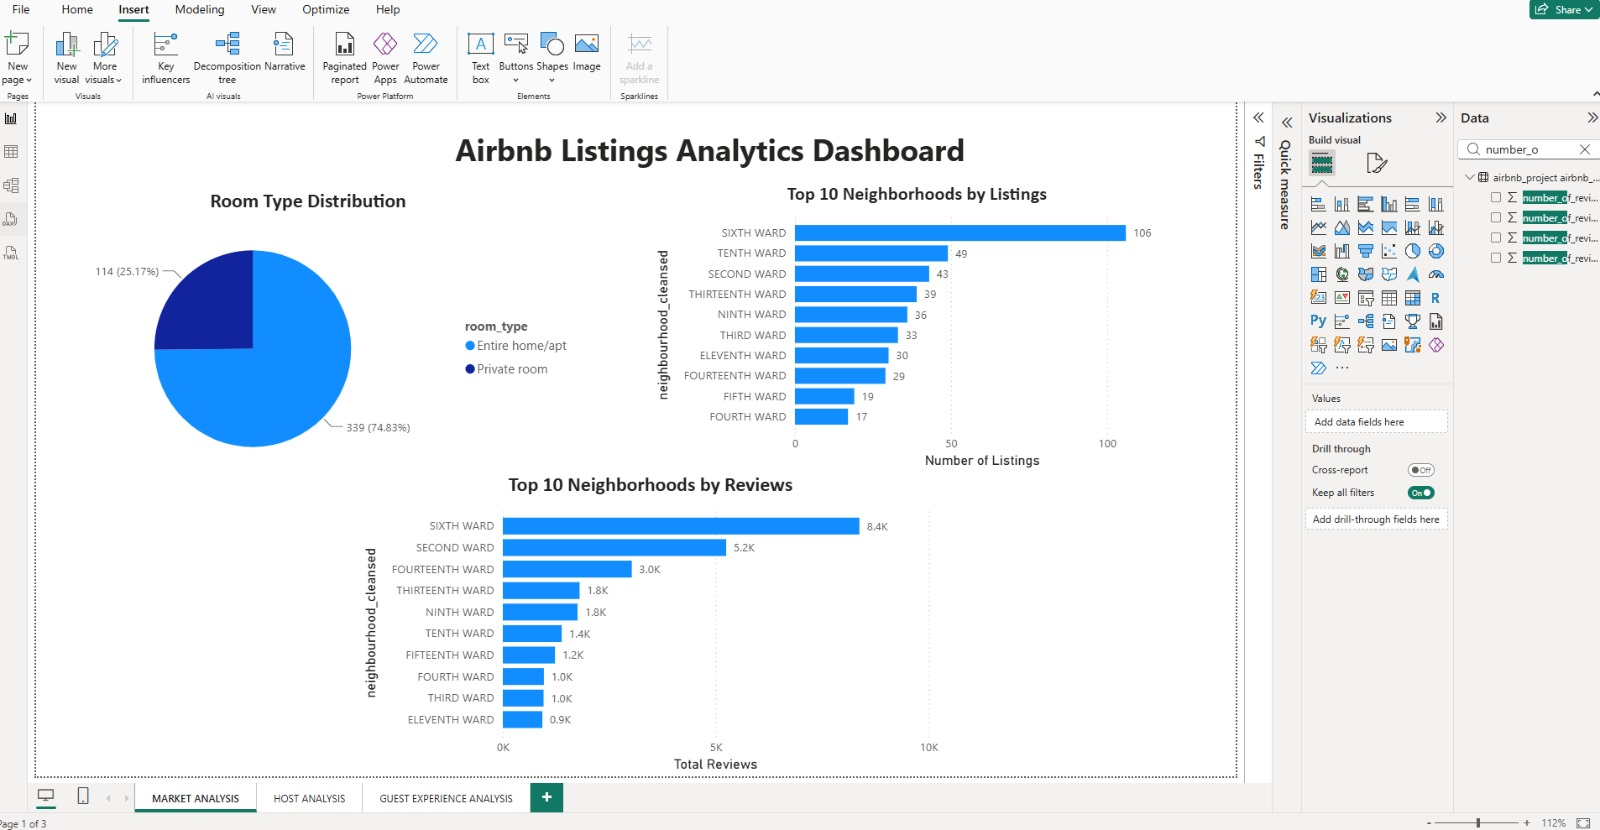

The page's visual inventory and layout, read from the dashboard file:
{"tool":"powerbi","page":{"name":"MARKET ANALYSIS","canvas":[1280,720],"ordinal":0},"visuals":[{"type":"pieChart","title":"Room Type Distribution","fields":{"Category":["airbnb_project airbnb_listings.room_type"],"Y":["CountNonNull(airbnb_project airbnb_listings.id)"]},"box":[0,93.1,580.3,315.2],"z":0},{"type":"clusteredBarChart","title":"Top 10 Neighborhoods by Listings","fields":{"Category":["airbnb_project airbnb_listings.neighbourhood_cleansed"],"Y":["CountNonNull(airbnb_project airbnb_listings.id)"]},"box":[655.5,86,568.7,309.9],"z":1},{"type":"clusteredBarChart","title":"Top 10 Neighborhoods by Reviews","fields":{"Category":["airbnb_project airbnb_listings.neighbourhood_cleansed"],"Y":["Sum(airbnb_project airbnb_listings.number_of_reviews)"]},"box":[343.9,395.8,623.3,324.2],"z":2},{"type":"textbox","box":[307.2,23.3,794.3,62.7],"z":3}]}

Visuals, with their boxes on the page's 1280x720 design canvas (x1, y1, x2, y2). These are canvas units, not pixel positions in the 1600x830 screenshot, which may show the page scaled, cropped or inside an application window:
"Room Type Distribution" pieChart: bbox=(0, 93, 580, 408)
"Top 10 Neighborhoods by Listings" clusteredBarChart: bbox=(656, 86, 1224, 396)
"Top 10 Neighborhoods by Reviews" clusteredBarChart: bbox=(344, 396, 967, 720)
textbox: bbox=(307, 23, 1102, 86)
